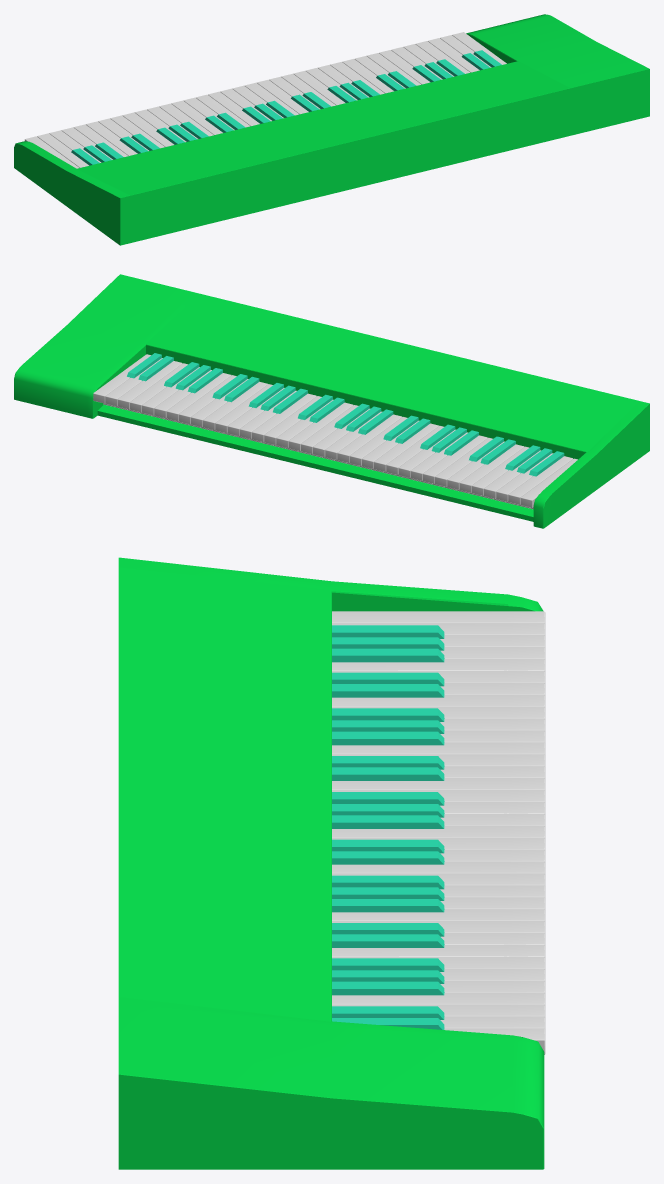
The model's file is SM_RH_Keyboard.fbx.
The picture shows the model from 3 angles, top to bottom: view 1: azimuth 30°, elevation 25°; view 2: azimuth 150°, elevation 25°; view 3: azimuth 270°, elevation 25°; orthographic projection. The views are drawn at different scales.
Visible parts, largest first — view 1: Cube.033; view 2: Cube.033; view 3: Cube.033.
Boxes of the visible parts, left/top/right/bottom form: Cube.033: left=14, top=14, right=649, bottom=245; Cube.033: left=14, top=274, right=649, bottom=528; Cube.033: left=118, top=557, right=545, bottom=1169.
Size of the model in its own units: 217 by 18.58 by 75.64.
